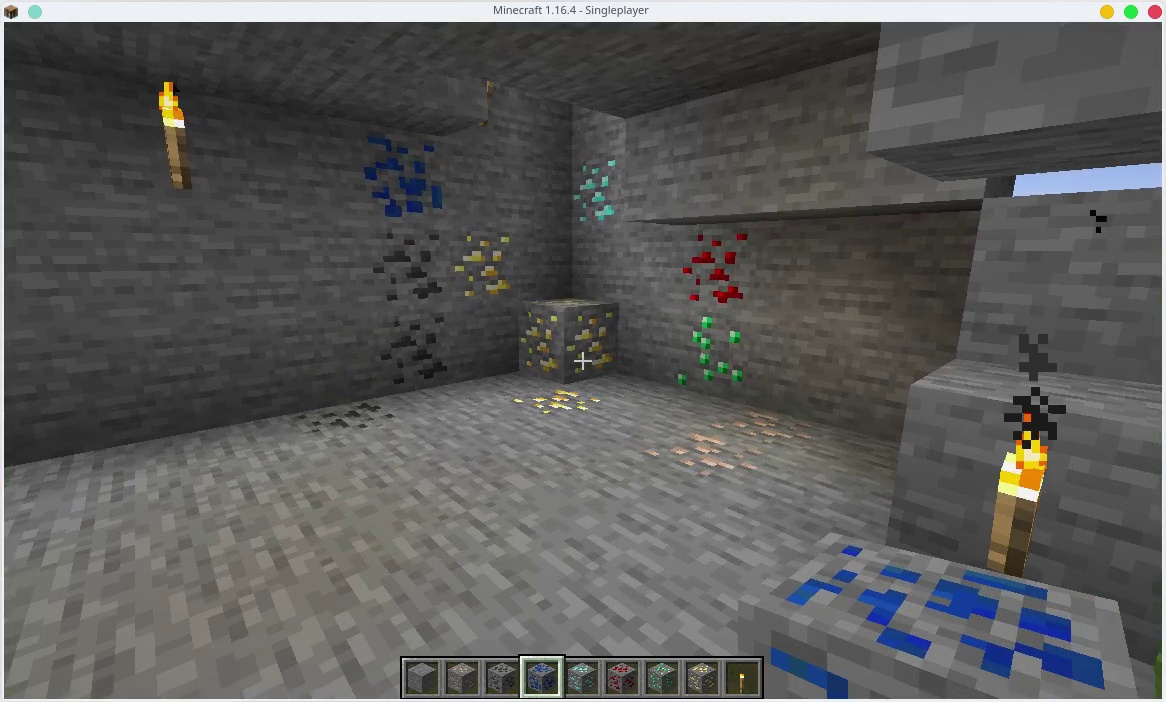gold: (518, 289, 616, 376), (446, 226, 515, 295), (515, 387, 597, 418), (684, 664, 718, 692)
